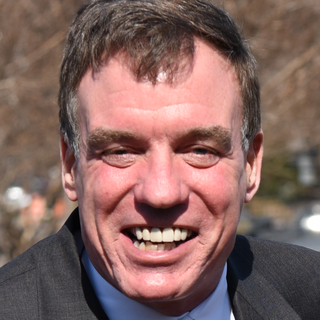eye: (177, 141, 226, 164), (94, 142, 144, 164)
